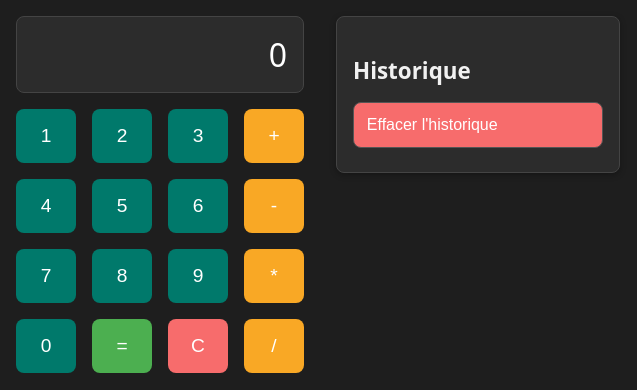
Test: Calculatrice › ajoute le calcul à l'historique
Click the button "6". click: coordinates (198, 206)
box: [168,179,228,233]
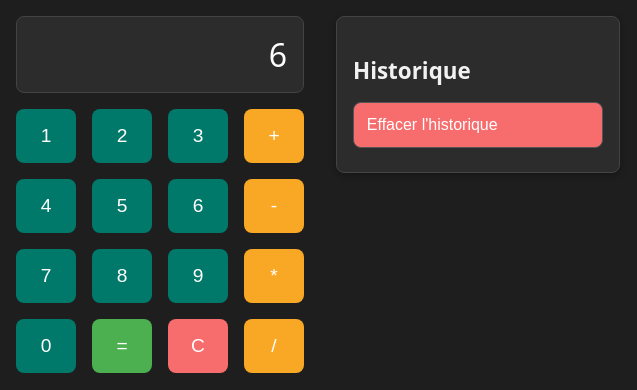
Click the button "-". click: coordinates (274, 206)
box: [244,179,304,233]
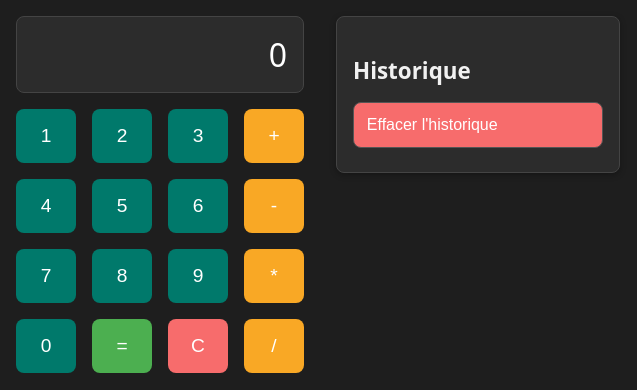
Click the button "1". click: coordinates (46, 136)
box: [16,109,76,163]
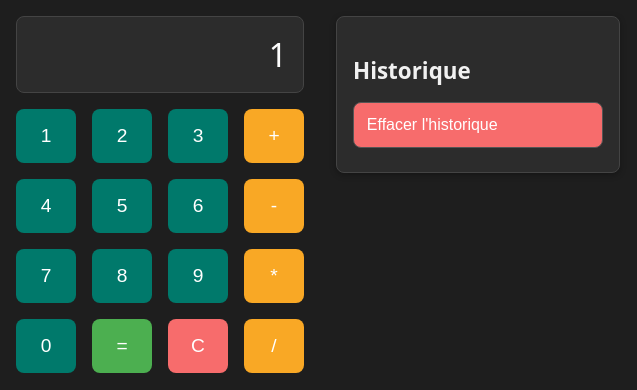
Click the button "=". click: coordinates (122, 346)
box: [92,319,152,373]
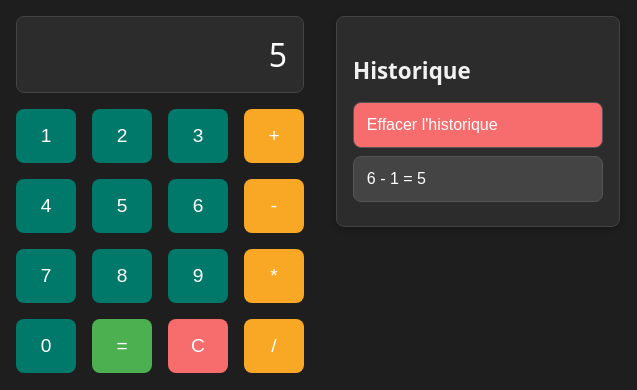
Check: the button "6 - 1 = 5" is shown, box [353,156,603,202]
